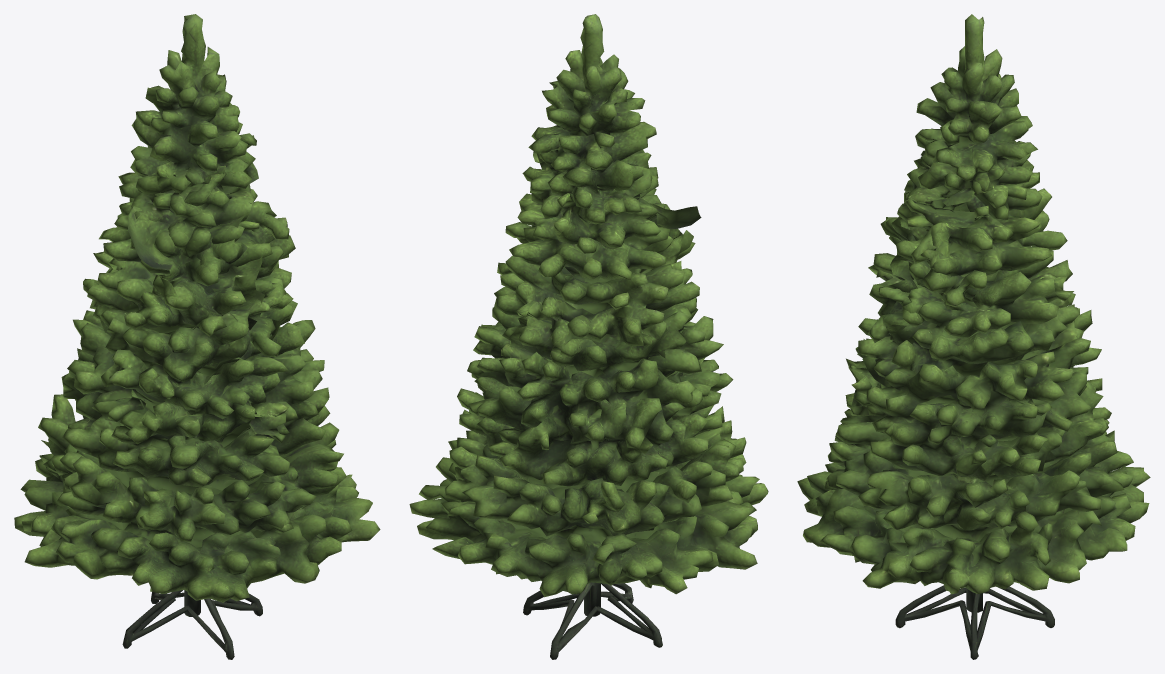
Rendered from Christmas_Tree_7FeetTall_0222184921_texture.glb.
3 views of the same model, side by side, from view 1: azimuth 30°, elevation 25°; view 2: azimuth 150°, elevation 25°; view 3: azimuth 270°, elevation 25° (orthographic).
Visible parts, largest first — view 1: Mesh_0; view 2: Mesh_0; view 3: Mesh_0.
Part boxes in pixels (x1=…): Mesh_0: x1=14, y1=14, x2=380, y2=659; Mesh_0: x1=409, y1=14, x2=768, y2=659; Mesh_0: x1=797, y1=14, x2=1150, y2=659.
Size of the model in its own units: 1.16 by 2.13 by 1.12.
Materials: 1 (1 with a texture image).
